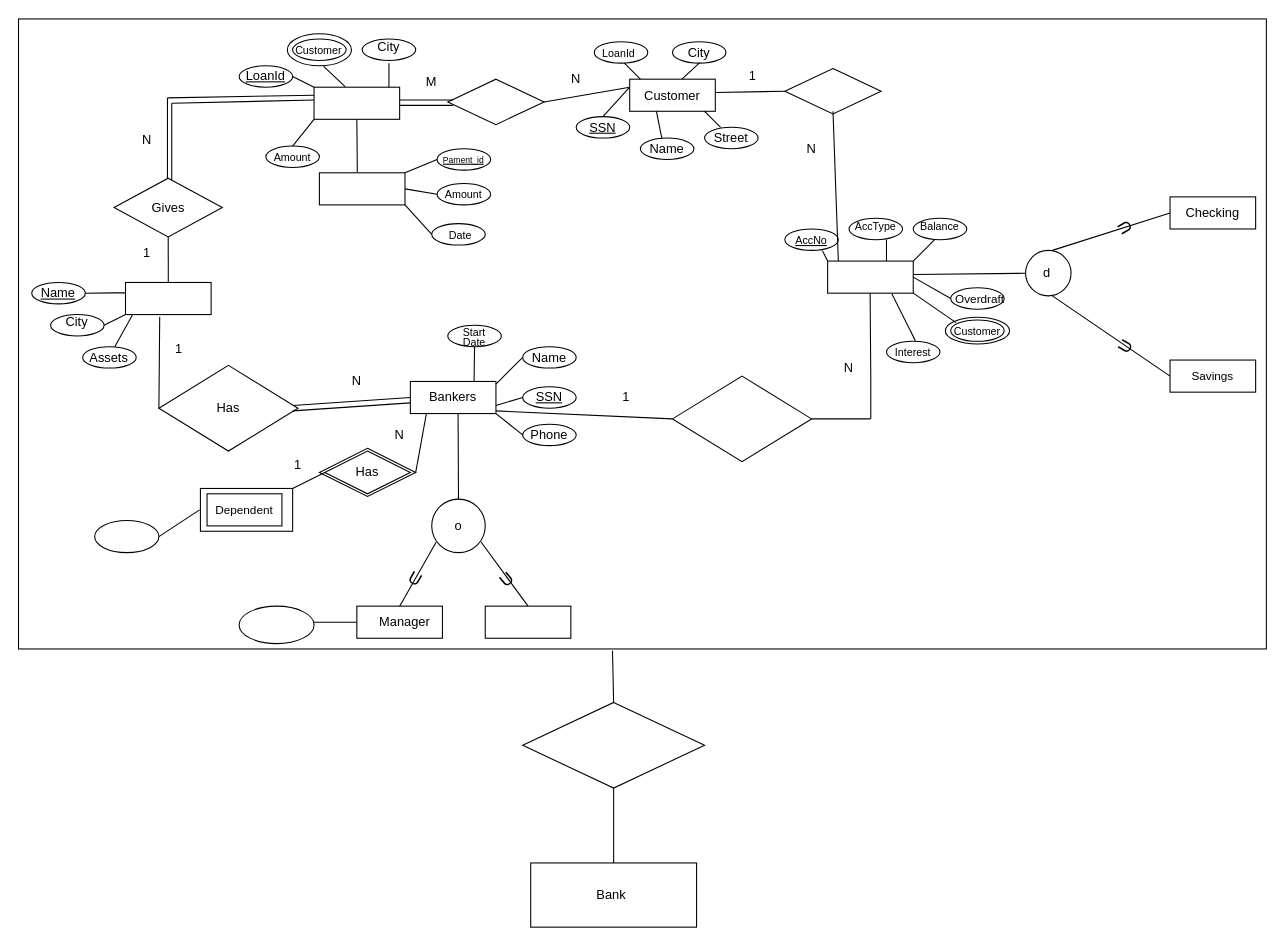
Some shapes in this 1286 by 946 pixel diagram are drawn without their labels. The box of each missing label's shape, as (x1, y1, x2, y2) in pixels:
Account: (827, 260, 913, 293)
Branches: (124, 281, 211, 315)
Dependent's Name: (94, 519, 159, 553)
Have: (784, 67, 881, 114)
Loan: (313, 86, 400, 119)
Maintains: (671, 375, 812, 462)
Manager_SSN: (238, 605, 314, 644)
Manages: (522, 701, 705, 788)
Payment: (318, 172, 405, 205)
Takes: (447, 78, 544, 125)
Worker: (484, 605, 571, 638)
